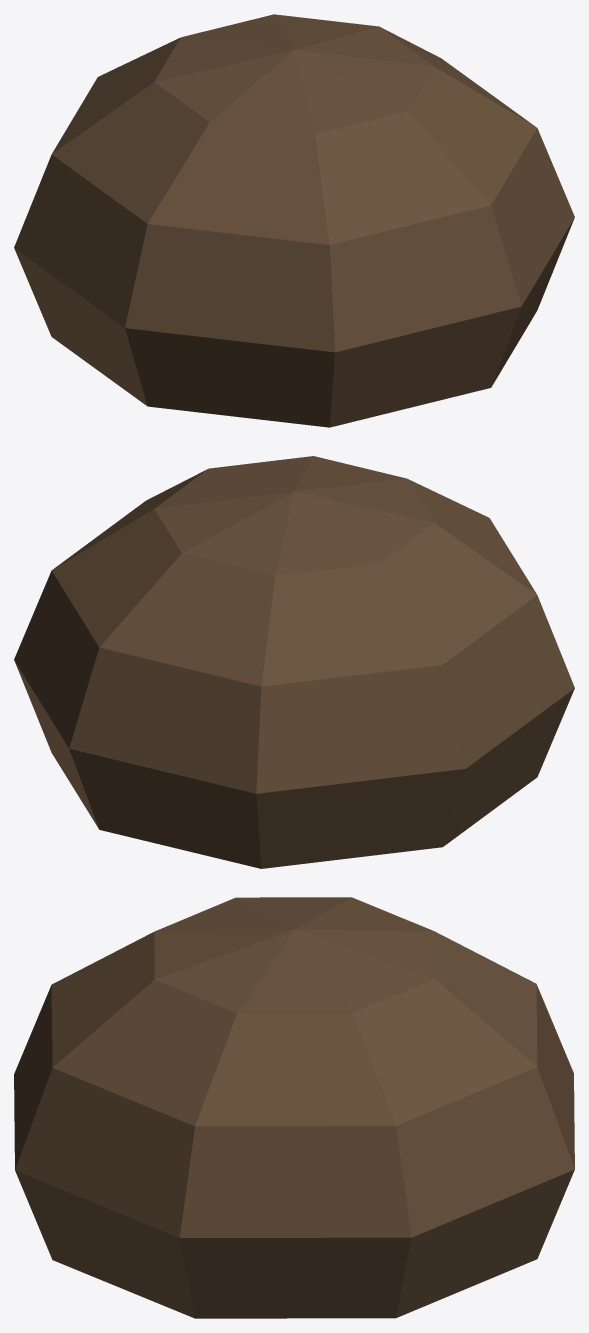
The model's file is Rye_bread.fbx.
3 renders of one model, top to bottom at view 1: azimuth 30°, elevation 25°; view 2: azimuth 150°, elevation 25°; view 3: azimuth 270°, elevation 25°, orthographic. The views are drawn at different scales.
Parts seen in each view (by area): view 1: Cube; view 2: Cube; view 3: Cube.
Boxes of the visible parts, box(x1,y1,x2,y2) form: Cube: box(14, 14, 574, 427); Cube: box(14, 456, 574, 868); Cube: box(14, 897, 574, 1318).
Bounding box in the file's own units: 65.31 × 37.8 × 66.64.
